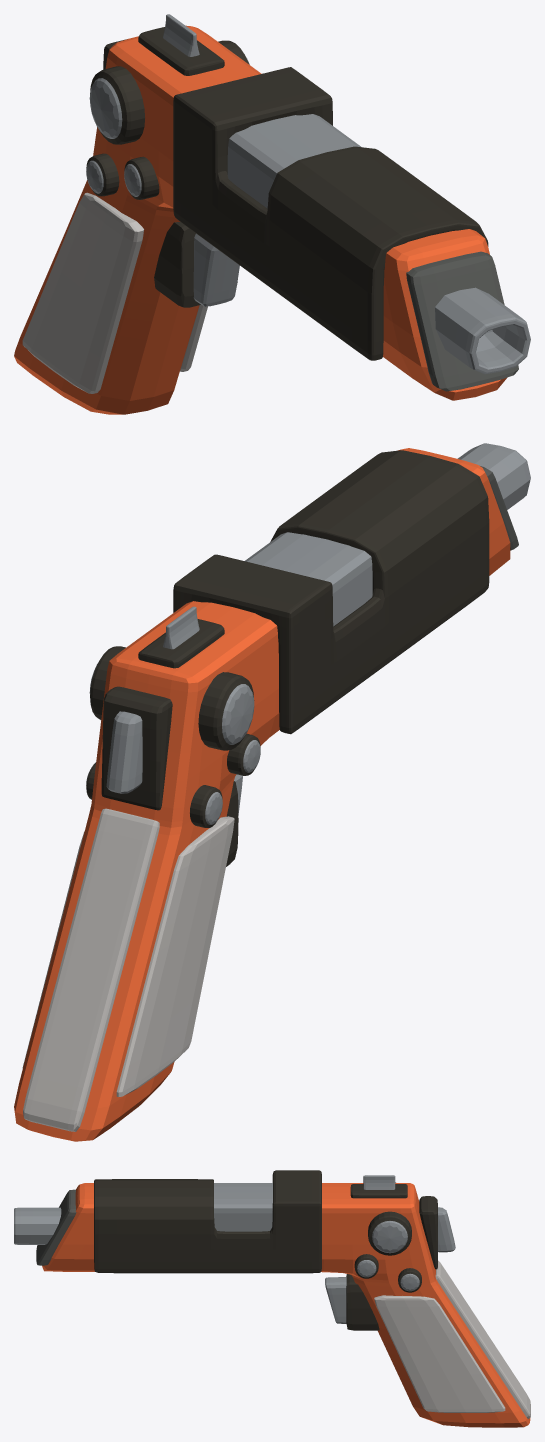
File: pistol1.fbx
The picture shows the model from 3 angles, top to bottom: view 1: azimuth 30°, elevation 25°; view 2: azimuth 150°, elevation 25°; view 3: azimuth 270°, elevation 25°; orthographic projection. The views are drawn at different scales.
Visible parts, largest first — view 1: pistol, slide; view 2: pistol, slide; view 3: pistol, slide.
Boxes of the visible parts, left/top/right/bottom form: pistol: left=14, top=14, right=530, bottom=414; slide: left=173, top=67, right=488, bottom=360; pistol: left=14, top=443, right=530, bottom=1141; slide: left=173, top=450, right=489, bottom=734; pistol: left=14, top=1175, right=530, bottom=1427; slide: left=94, top=1170, right=321, bottom=1273.
Size of the model in its own units: 1.36 by 7.49 by 3.9.
